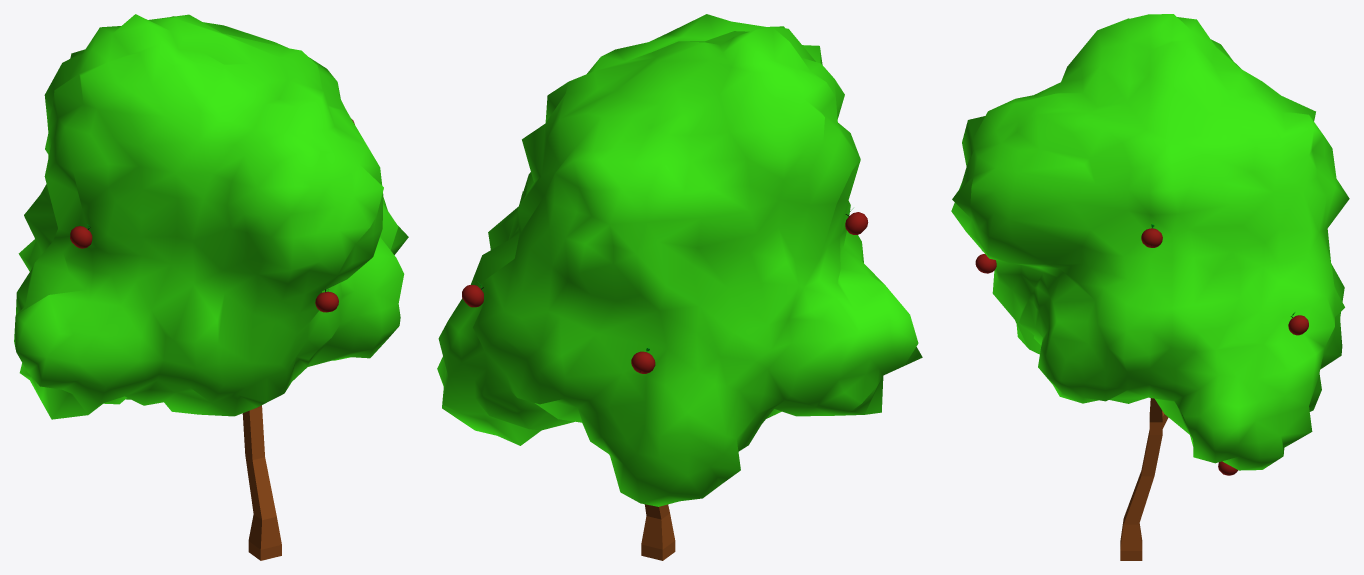
File: SM_AppleTree_002_LOD1.fbx
3 renders of one model, left to right at view 1: azimuth 30°, elevation 25°; view 2: azimuth 150°, elevation 25°; view 3: azimuth 270°, elevation 25°, orthographic. The views are drawn at different scales.
Visible parts, largest first — view 1: AppleTree_02; view 2: AppleTree_02; view 3: AppleTree_02.
Part boxes in pixels (x1,y1,x2,y2): AppleTree_02: (14, 14, 408, 560); AppleTree_02: (437, 14, 922, 560); AppleTree_02: (951, 14, 1349, 560).
Size of the model in its own units: 356 by 450 by 328.
